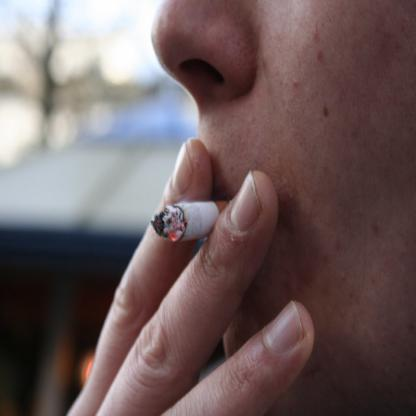smoking: (151, 201, 249, 242)
